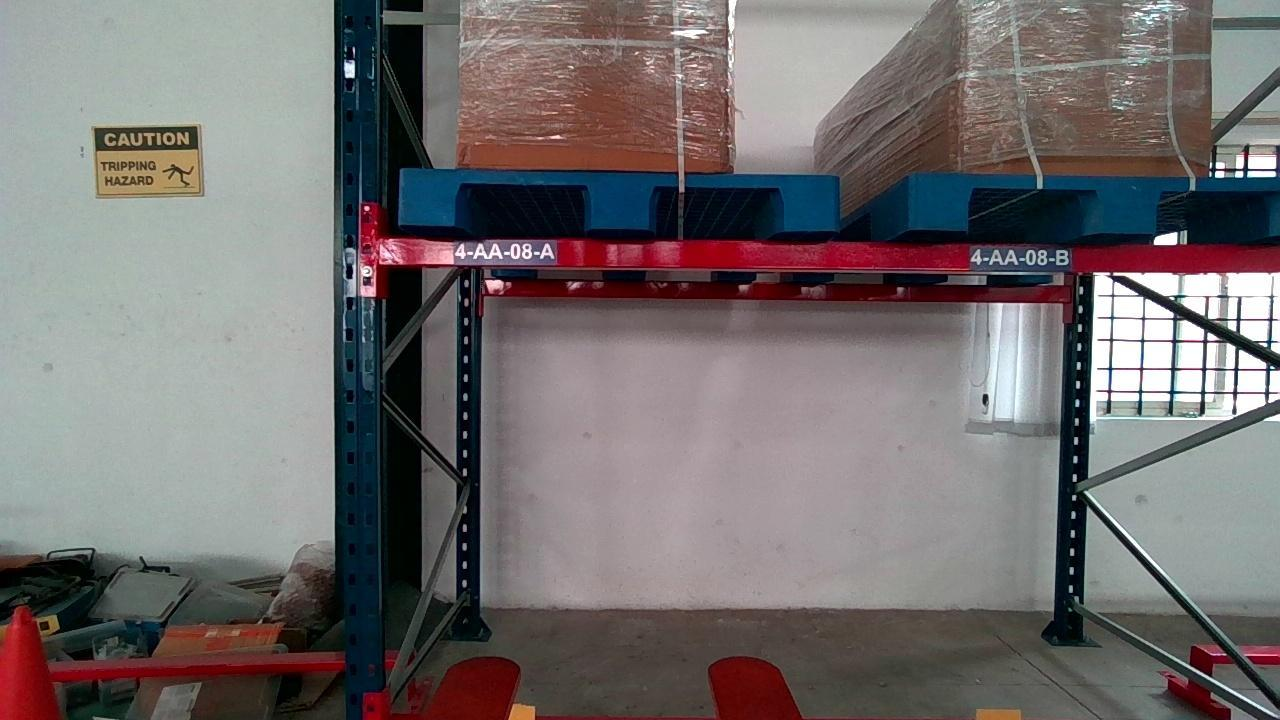h_rack: (378, 235, 1279, 273)
small_pallet: (398, 170, 839, 232), (913, 176, 1277, 236)
